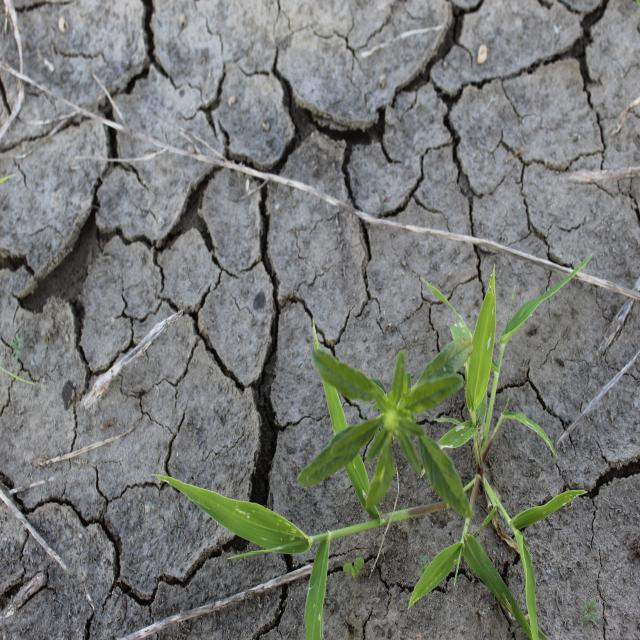Waterhemp: (296, 335, 474, 522)
